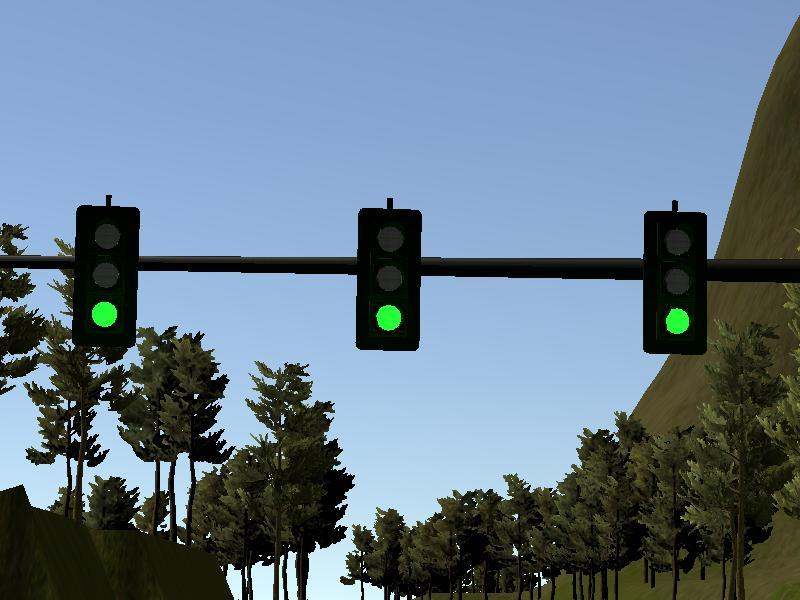Green: (645, 212, 705, 356), (359, 210, 419, 350), (79, 206, 135, 343)
